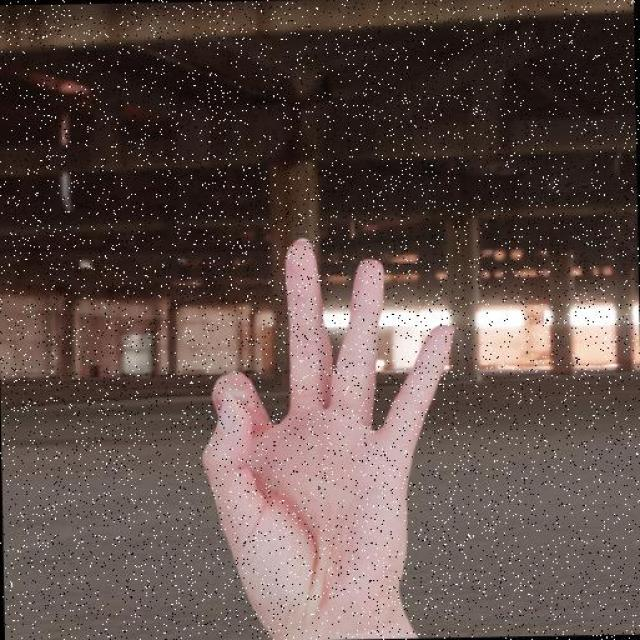F: (192, 232, 467, 614)
